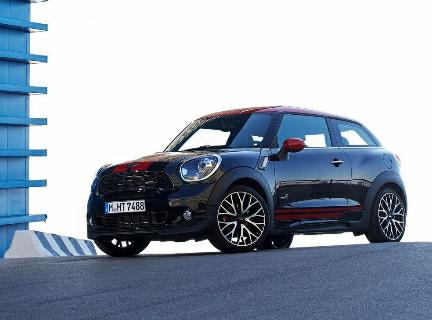MINI-JCWPACEMAN: (84, 111, 416, 255)
